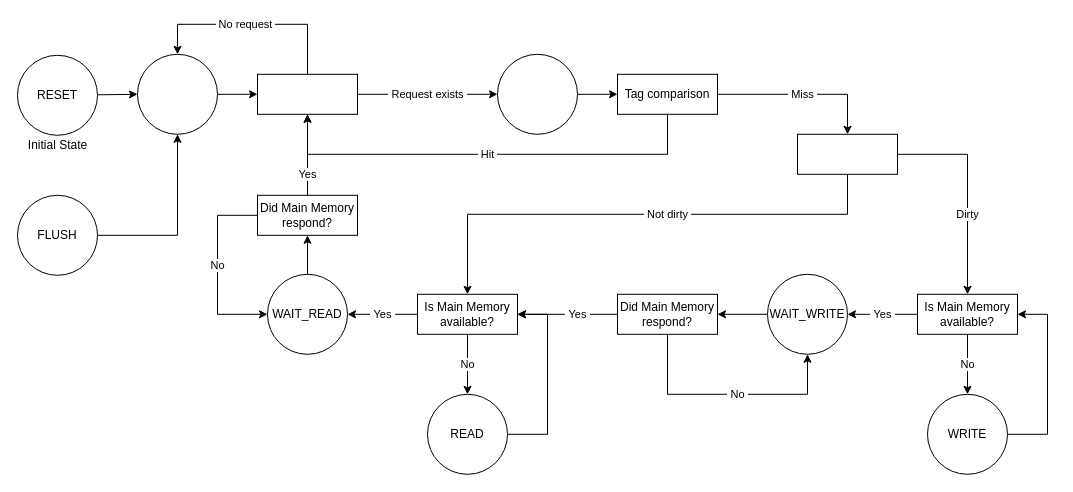
Some shapes in this 1073 by 492 pixel diagram are drawn without their labels. Each missing label, with the box of its shape:
Check dirty bit: (796, 133, 898, 174)
Check pipeline: (256, 73, 358, 114)
COMPARE: (496, 53, 578, 134)
IDLE: (136, 53, 218, 134)
